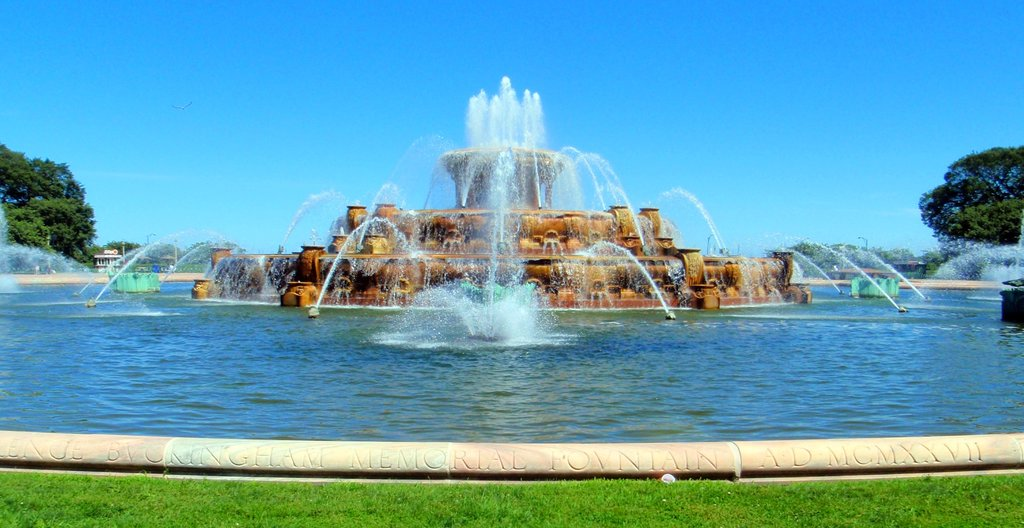Tree: (0, 140, 233, 272), (927, 133, 1020, 266), (784, 240, 914, 269)
